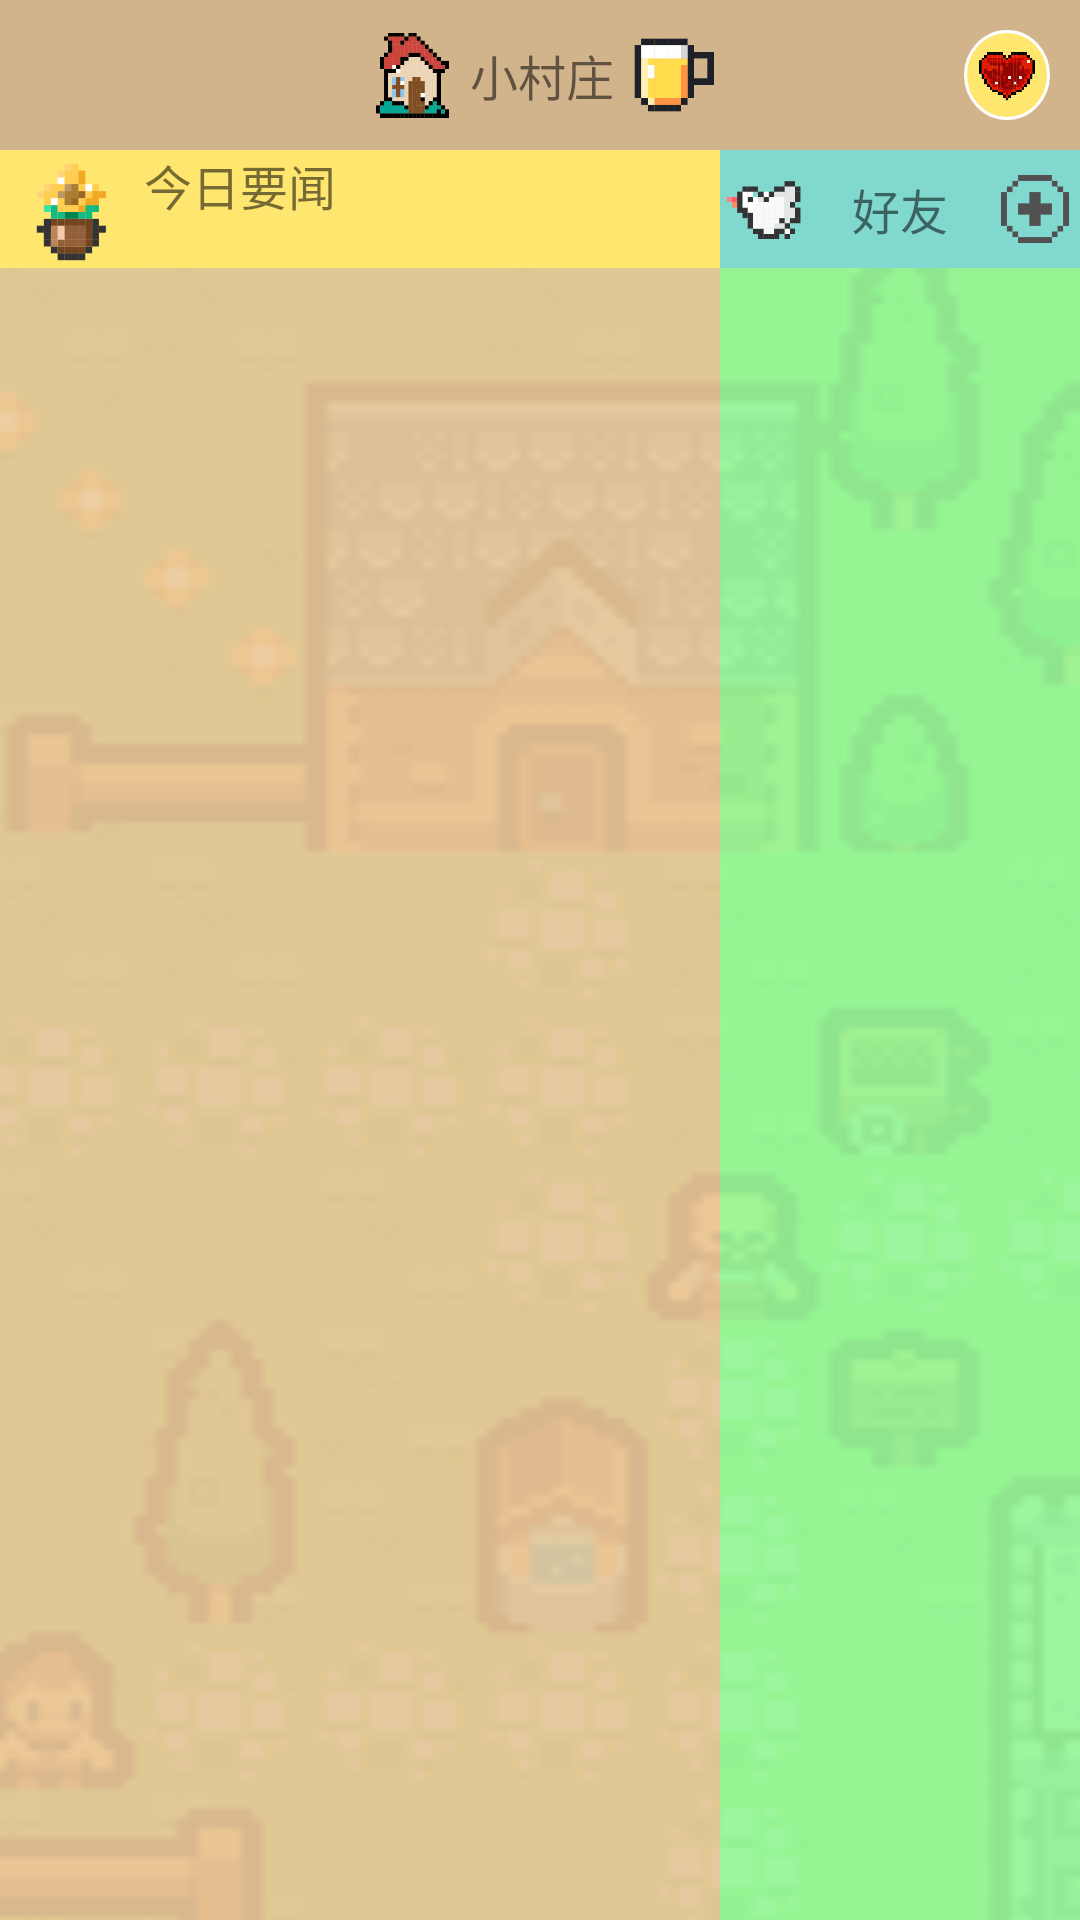

Named icons in this screenshot (1080px x 1920px) and their centers, (x=x, y=y):
add pixel: (x=1035, y=209)
beer pixel: (x=674, y=75)
dove pixel: (x=763, y=210)
sunflower pixel: (x=71, y=212)
village pixel: (x=412, y=75)
